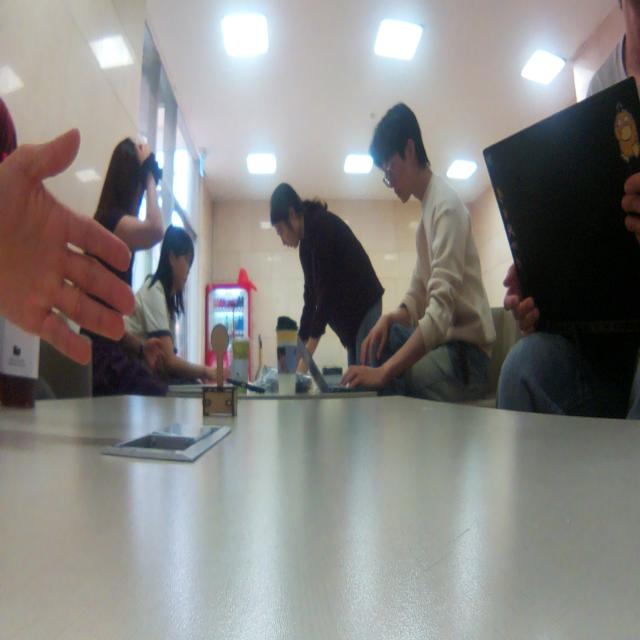target: (202, 324, 238, 418)
